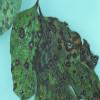Tomato Septoria leaf spot: (9, 5, 99, 99)
